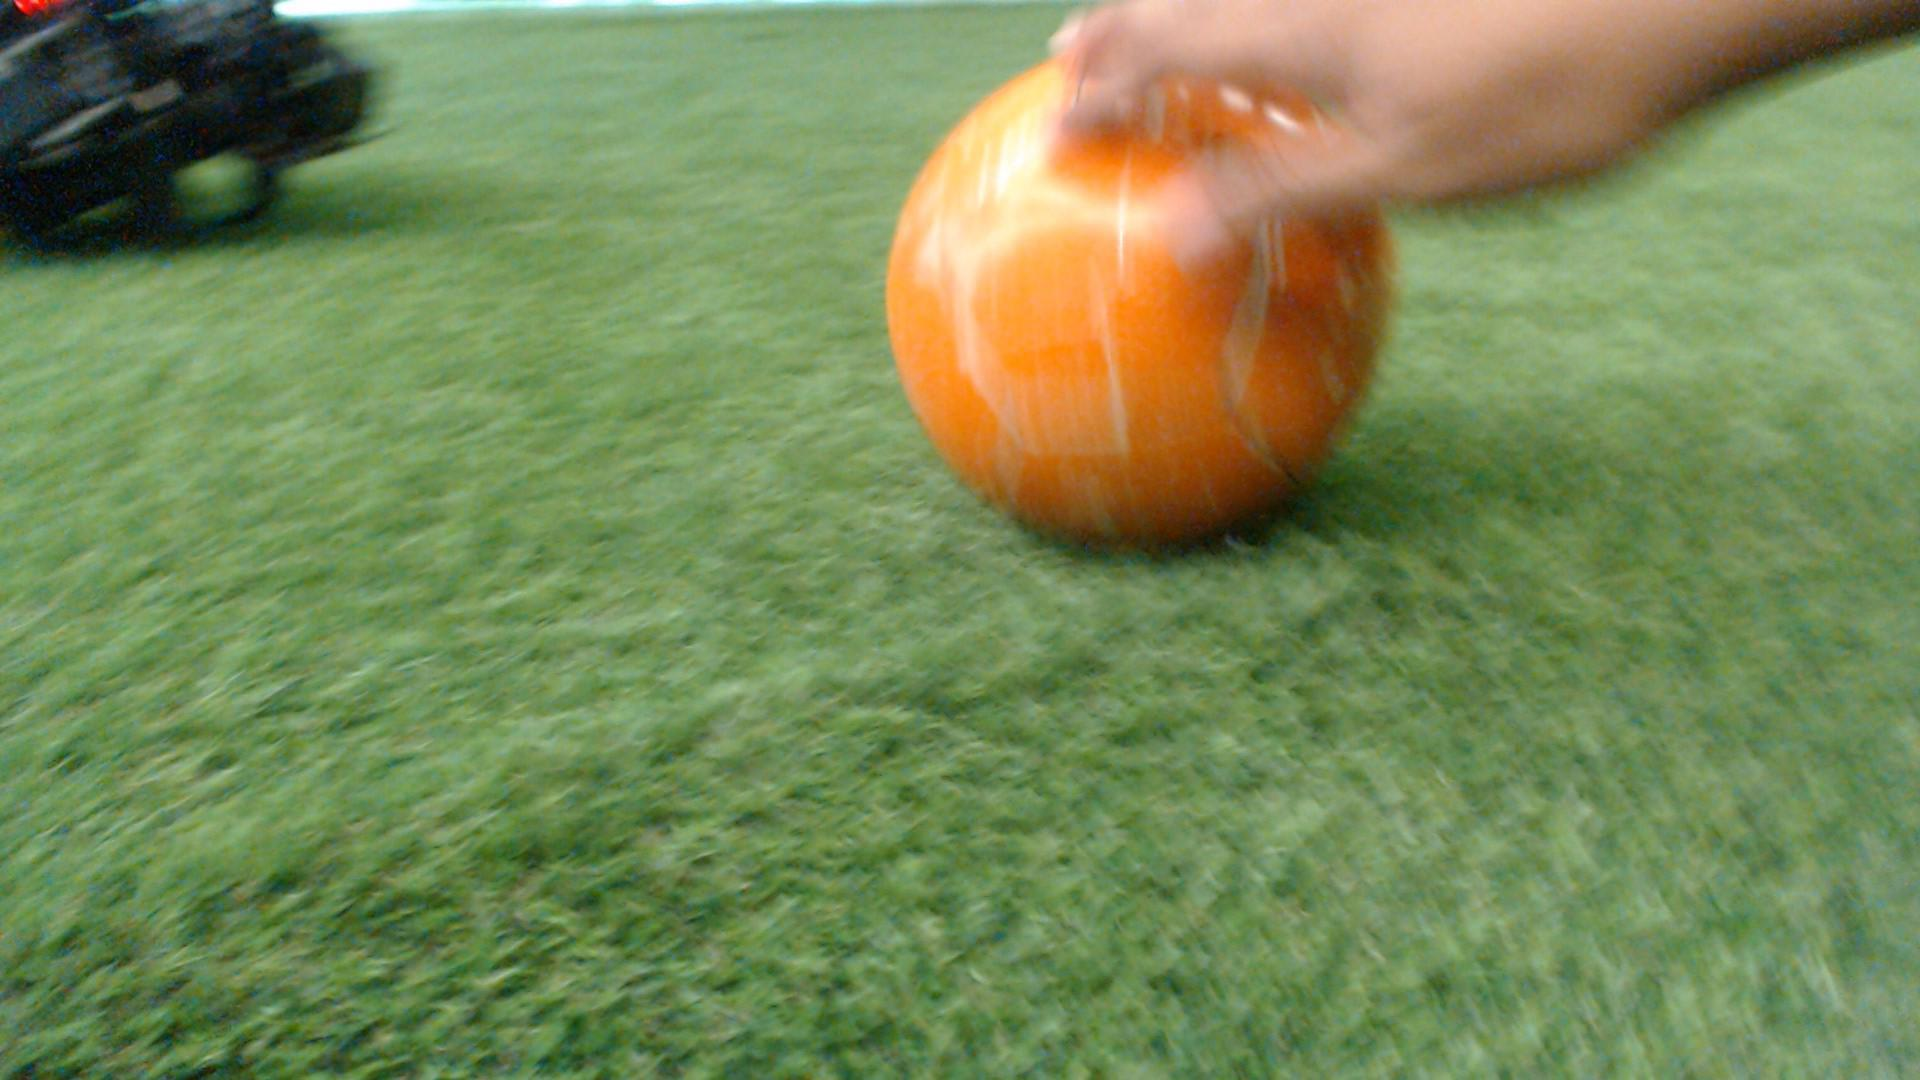bola: (868, 49, 1420, 585)
